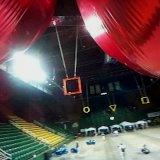Orange_Square_GShape: (63, 77, 81, 95)
Yellow_Circle_GShape: (83, 106, 90, 114)
Yellow_Square_GShape: (141, 96, 150, 104)
Yellow_Triangle_Gshape: (109, 103, 117, 112)
